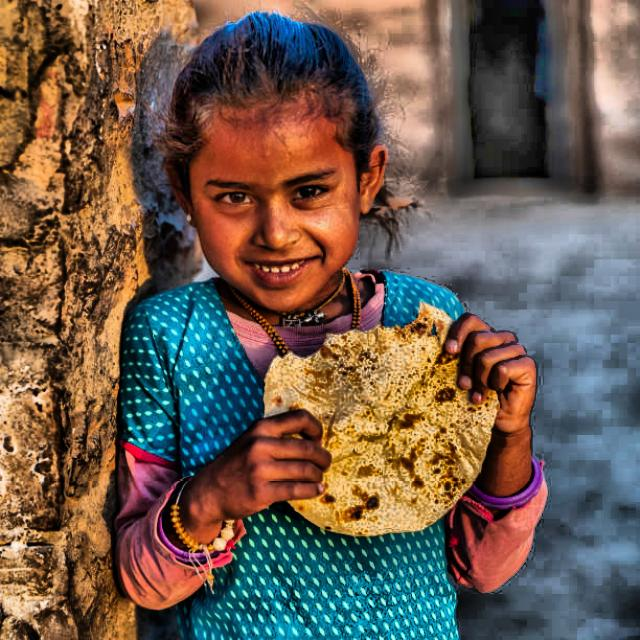Human: (74, 2, 597, 640)
